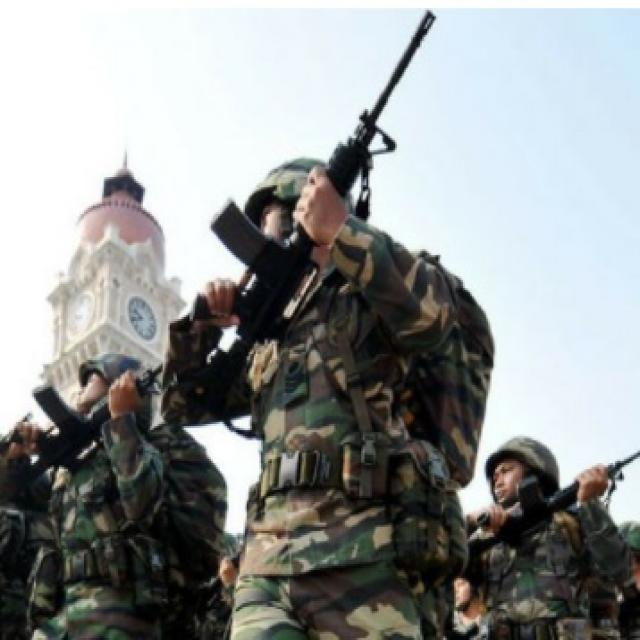m16: (158, 35, 618, 483)
